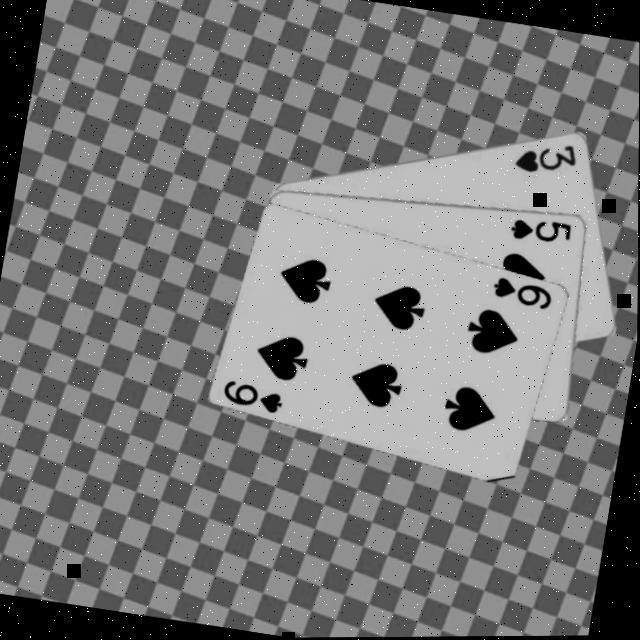3H: (512, 136, 584, 186)
5S: (508, 214, 578, 252)
6S: (220, 378, 290, 419), (490, 276, 560, 316)
